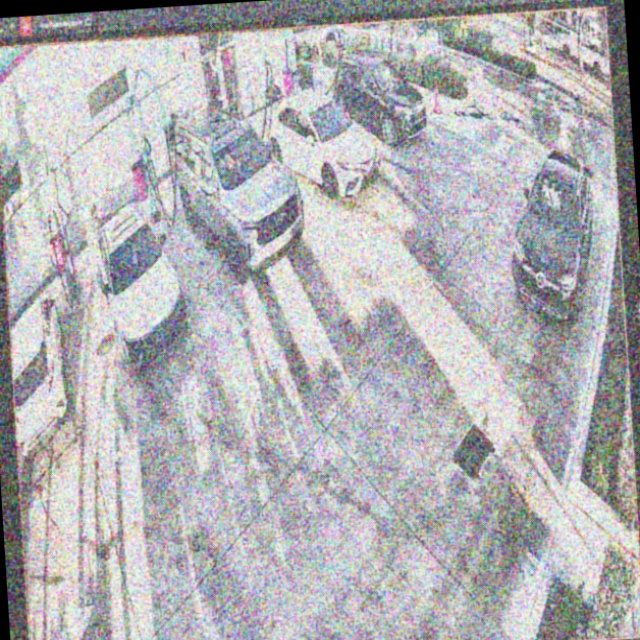Car: (170, 101, 305, 292), (96, 203, 188, 375), (263, 86, 381, 204)
